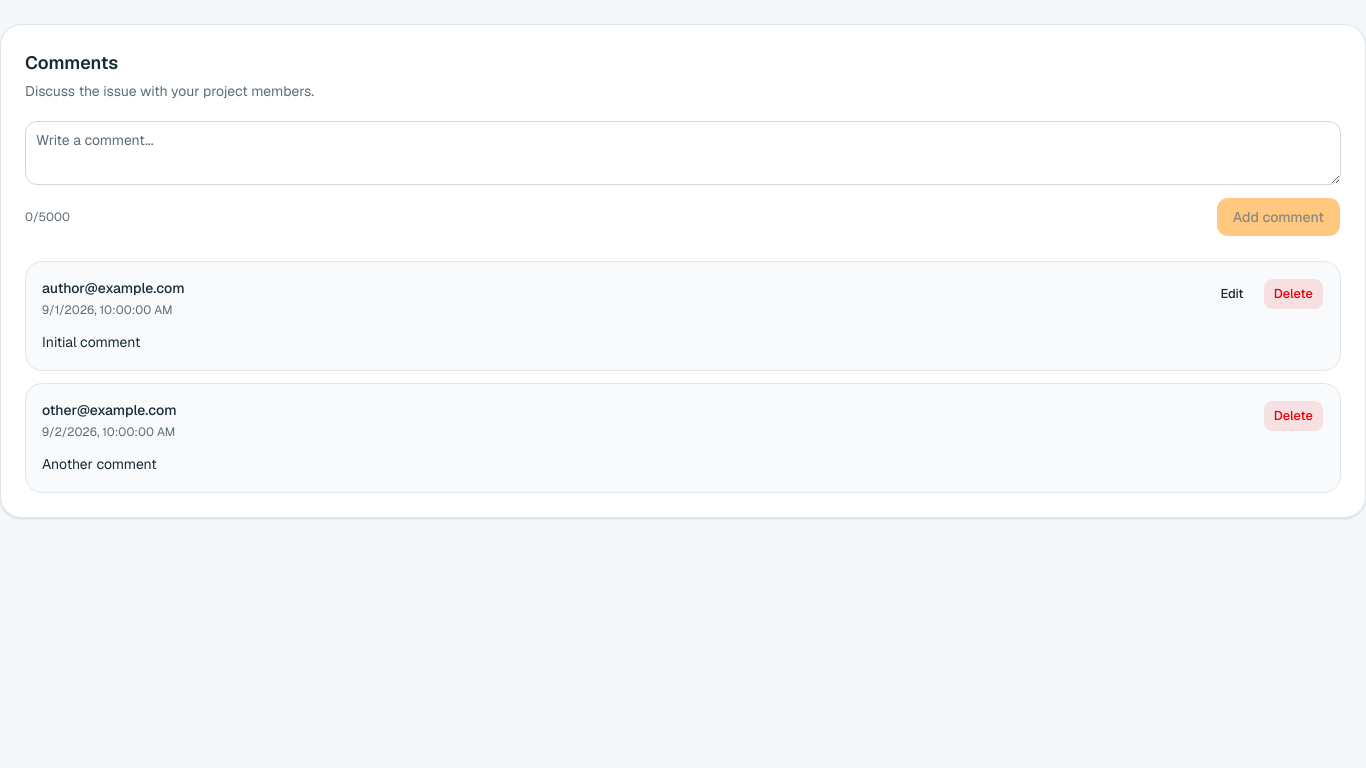
CommentsSection › allows the author to edit a comment
The image size is (1366, 768).
Click the button "Edit". click: (1232, 294)
box: [1210,278,1255,310]
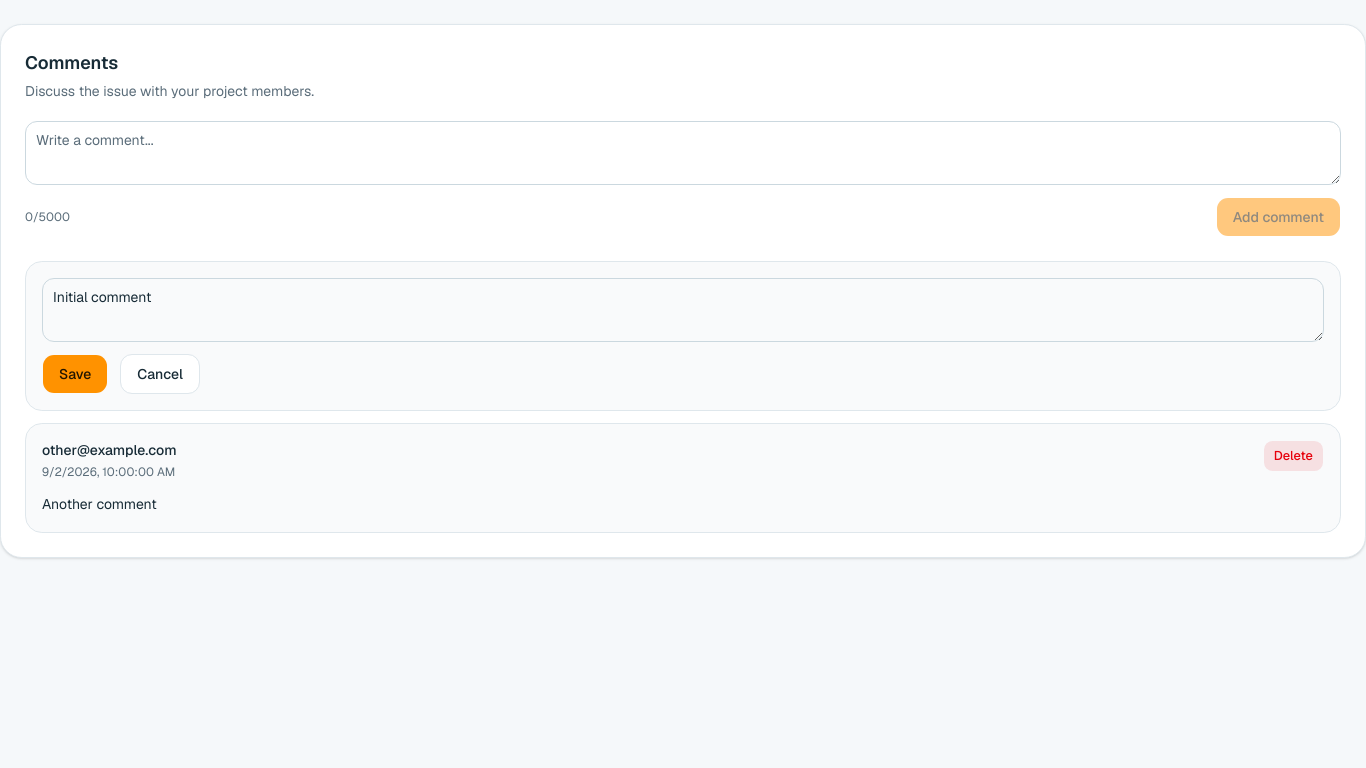
expect the text box showing "Initial comment" is shown: met, box [42,278,1324,342]
expect the button "Save" is shown: met, box [42,354,108,394]
